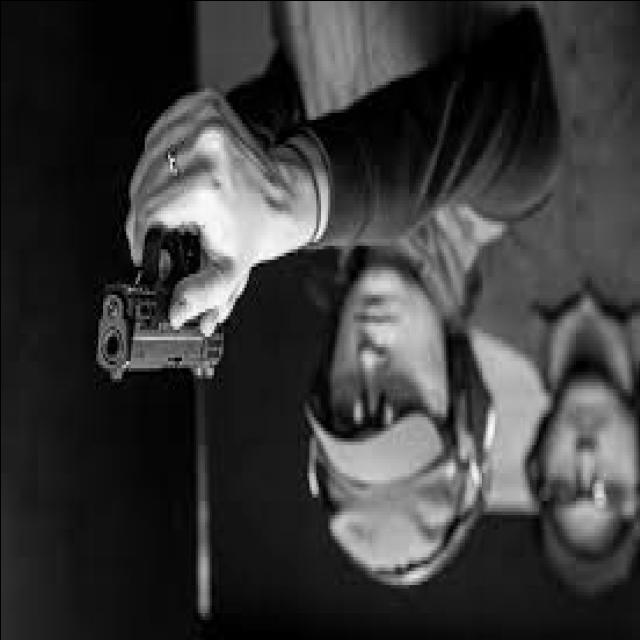weapons: (83, 130, 246, 409)
